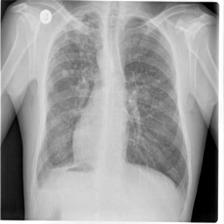tuberculosis: (34, 6, 194, 216)
